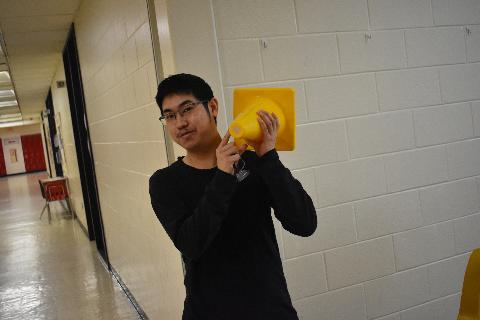cone: (229, 88, 295, 152)
